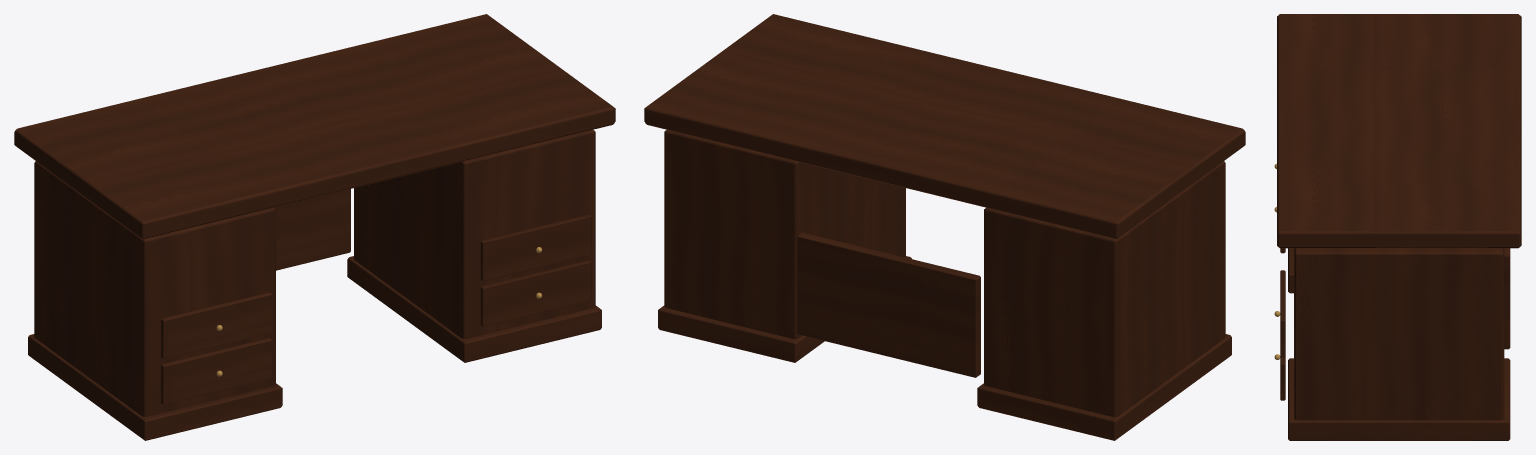
The model's file is luxury_lod1.glb.
3 renders of one model, left to right at view 1: azimuth 30°, elevation 25°; view 2: azimuth 150°, elevation 25°; view 3: azimuth 270°, elevation 25°, orthographic. The views are drawn at different scales.
Visible parts, largest first — view 1: BATCH_Desk_HighEnd_LOD1_Desk_HighEnd_Body, BATCH_Desk_HighEnd_LOD1_Desk_HighEnd_Surface; view 2: BATCH_Desk_HighEnd_LOD1_Desk_HighEnd_Body, BATCH_Desk_HighEnd_LOD1_Desk_HighEnd_Surface; view 3: BATCH_Desk_HighEnd_LOD1_Desk_HighEnd_Surface, BATCH_Desk_HighEnd_LOD1_Desk_HighEnd_Body.
Part boxes in pixels (x1,y1,x2,y2): BATCH_Desk_HighEnd_LOD1_Desk_HighEnd_Body: (28, 130, 601, 440); BATCH_Desk_HighEnd_LOD1_Desk_HighEnd_Surface: (14, 14, 615, 239); BATCH_Desk_HighEnd_LOD1_Desk_HighEnd_Body: (658, 130, 1231, 440); BATCH_Desk_HighEnd_LOD1_Desk_HighEnd_Surface: (644, 14, 1245, 239); BATCH_Desk_HighEnd_LOD1_Desk_HighEnd_Surface: (1277, 14, 1521, 248); BATCH_Desk_HighEnd_LOD1_Desk_HighEnd_Body: (1280, 248, 1510, 440).
Bounding box in the file's own units: 1.74 × 0.79 × 0.828.
Materials: 3 (2 with a texture image).
